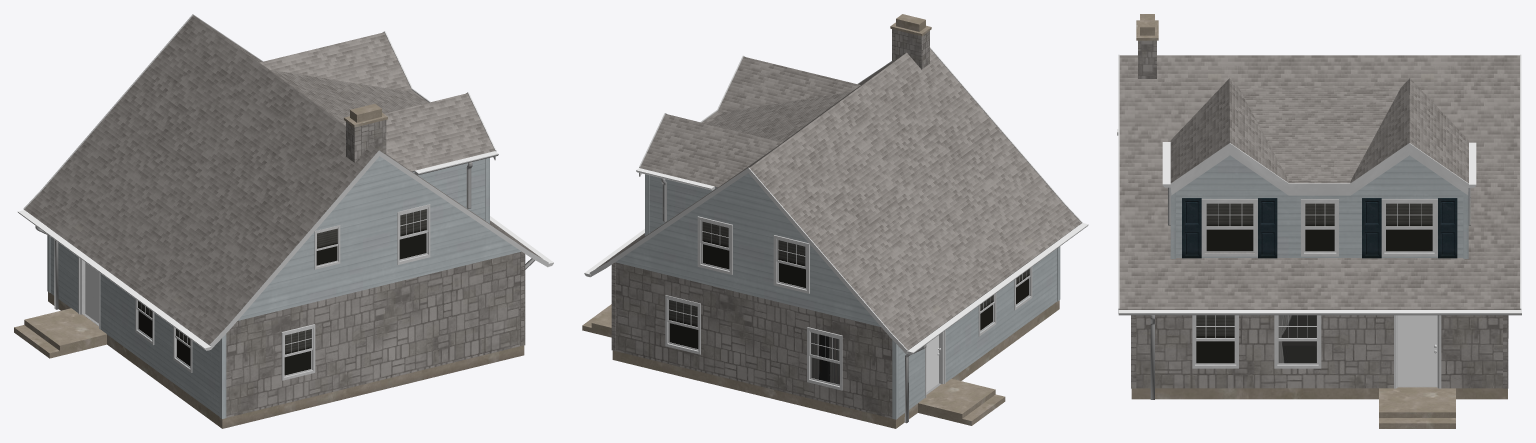
The model's file is home-2.glb.
The picture shows the model from 3 angles, left to right: view 1: azimuth 30°, elevation 25°; view 2: azimuth 150°, elevation 25°; view 3: azimuth 270°, elevation 25°; orthographic projection. The views are drawn at different scales.
Parts seen in each view (by area): view 1: Home2_col_V4; view 2: Home2_col_V4; view 3: Home2_col_V4.
Part boxes in pixels (box(x1,y1,x2,y2)): Home2_col_V4: box(14, 14, 553, 428); Home2_col_V4: box(582, 14, 1088, 428); Home2_col_V4: box(1117, 14, 1521, 428).
Size of the model in its own units: 11.97 by 7.63 by 9.35.
1 material, 1 textured.
